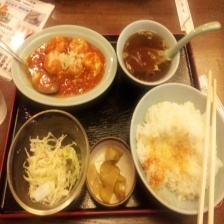rice: (134, 97, 224, 212)
